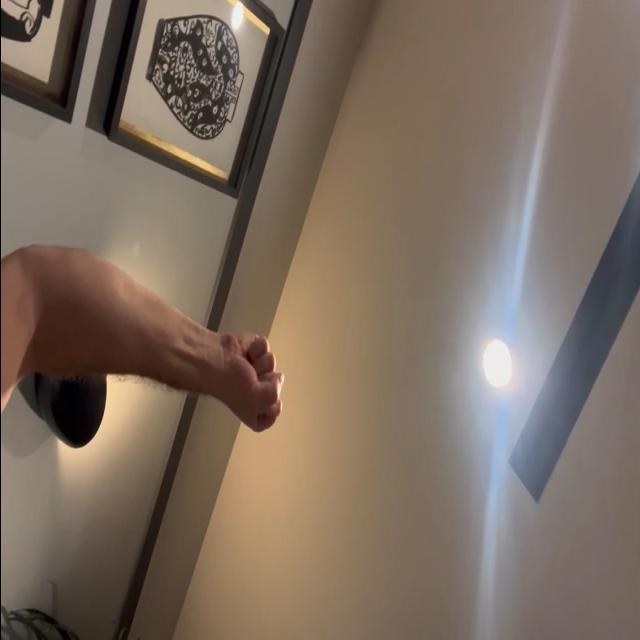Rock: (220, 331, 284, 436)
